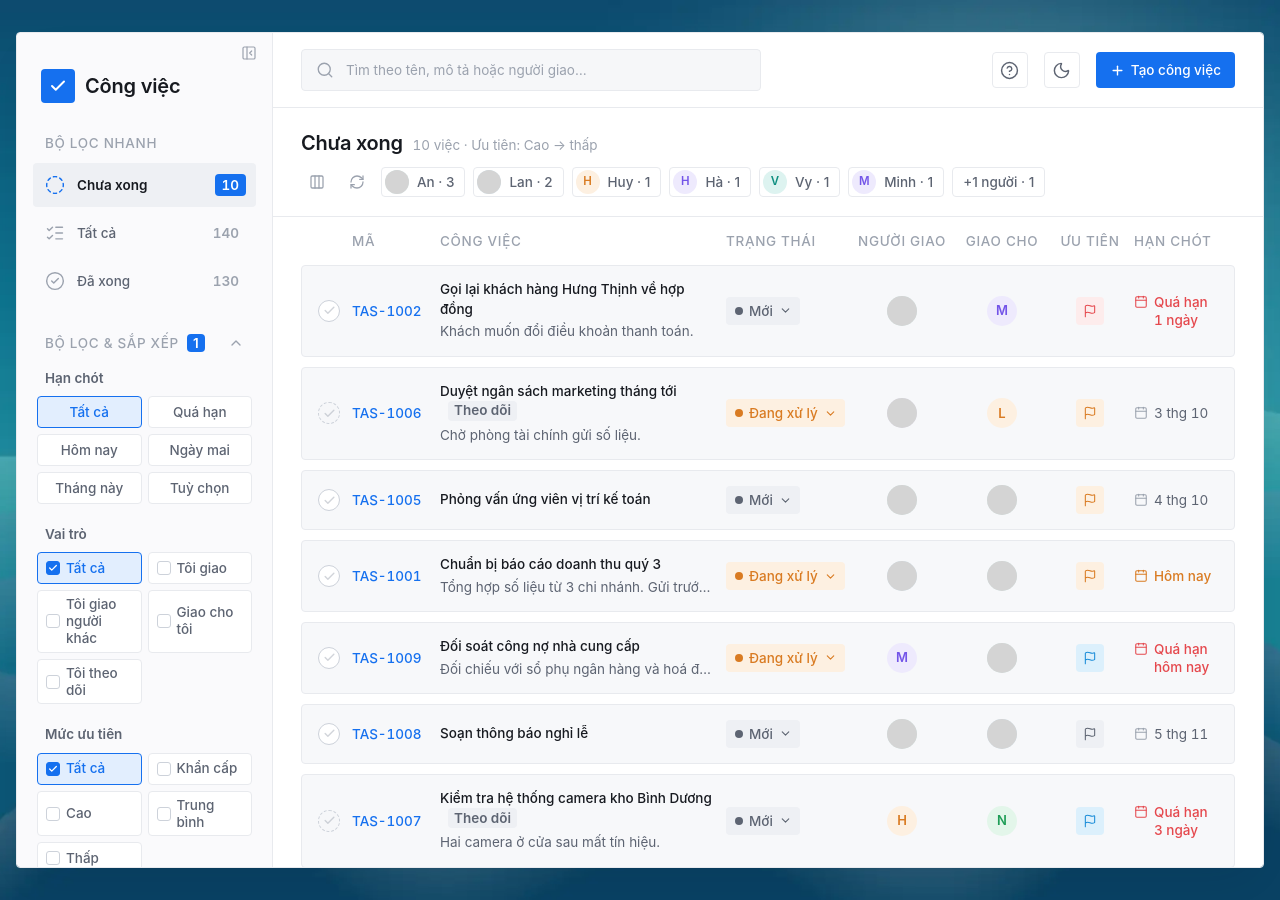
Scenario: detail popup (AC11, AC16, AC18, AC19) › opens on a card click, shows details, and Esc closes it
Click the 3rd text with class "desc": {"x": 577, "y": 587} [440,577,714,597]
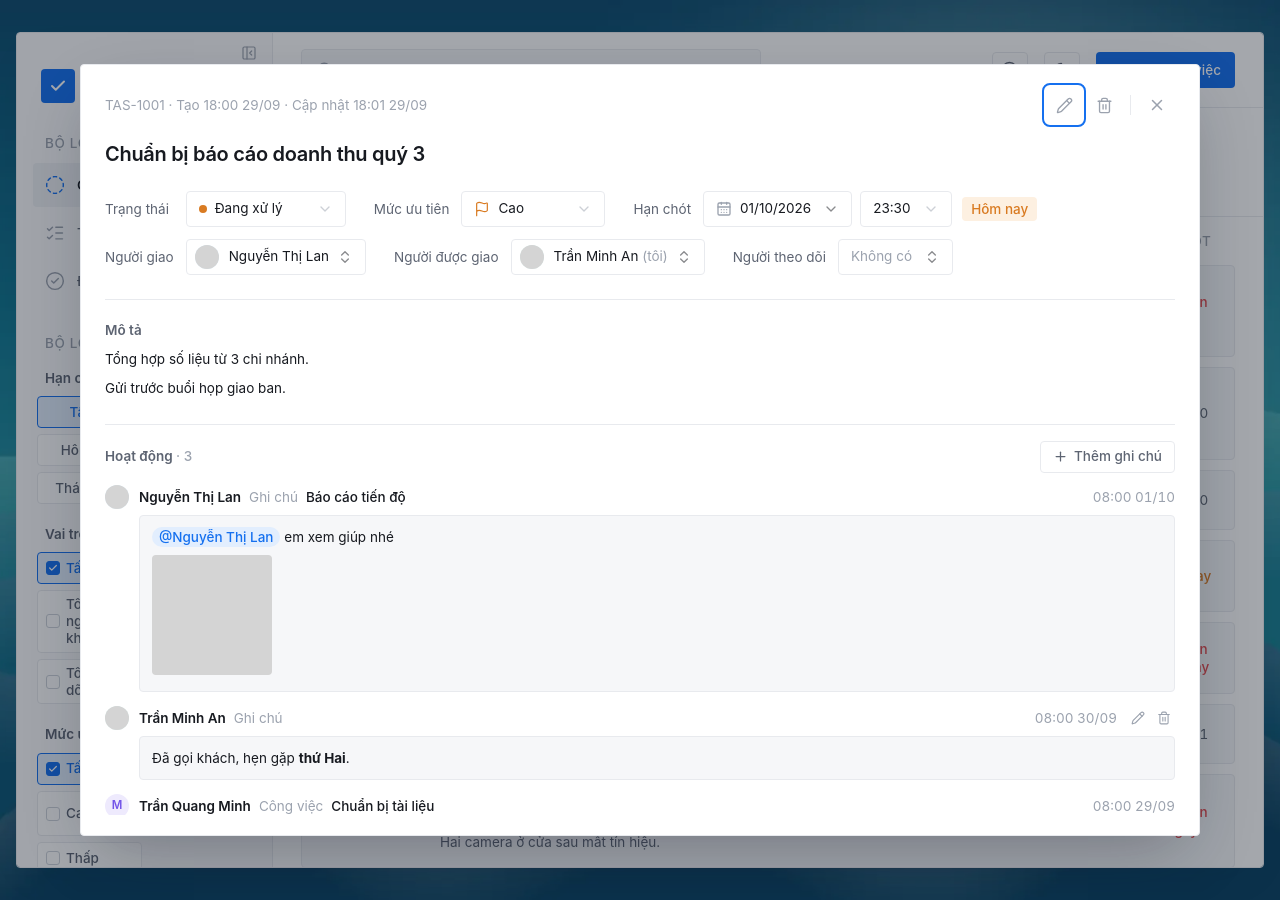
Expected: the dialog with test id "task-dialog" is shown
Expected: the dropdown with test id "view-status" reads "Đang xử lý", [186,191,346,227]
Expected: the dropdown with test id "view-reporter" reads "Nguyễn Thị Lan", [186,239,366,275]
Press Escape
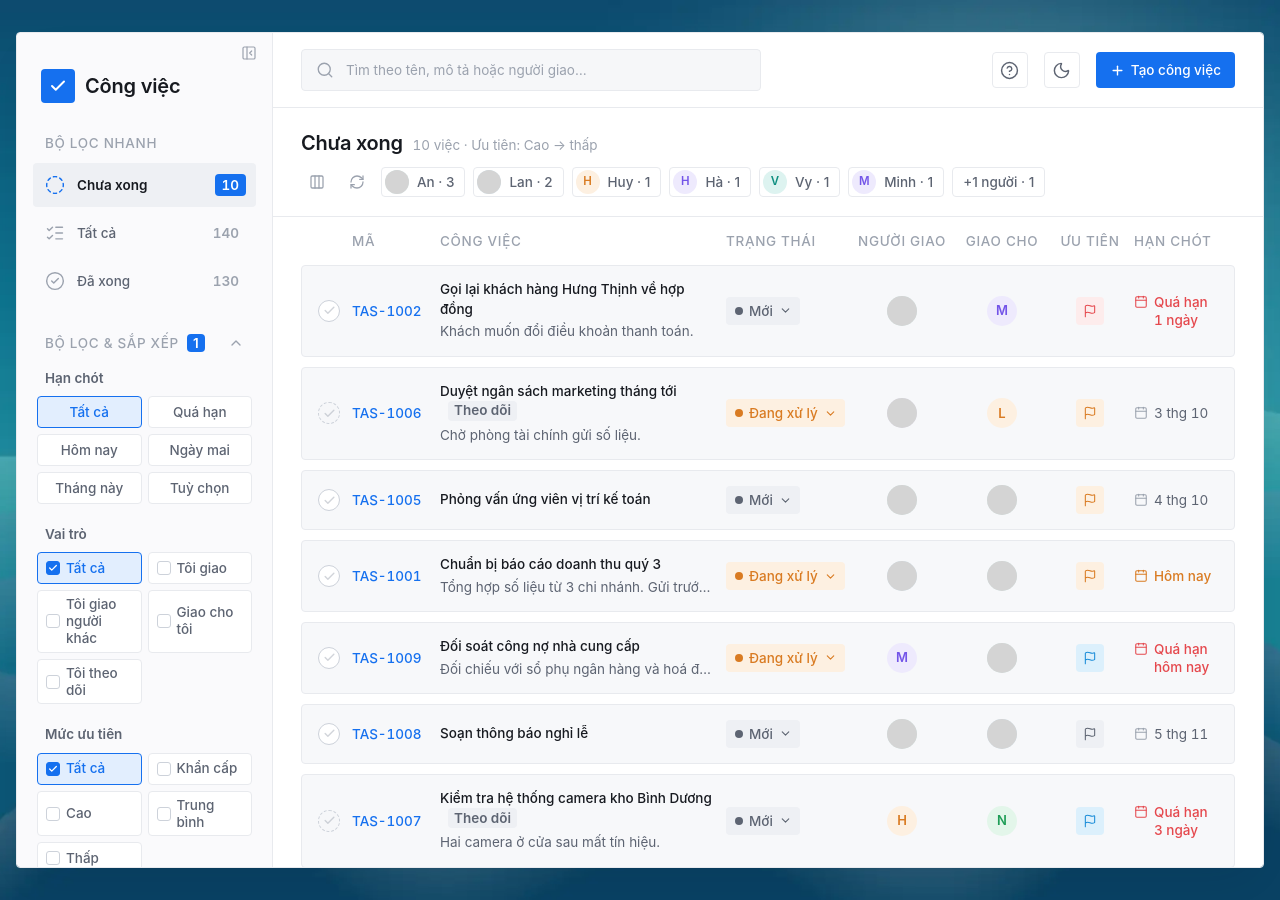
Expected: the dialog with test id "task-dialog" is gone
